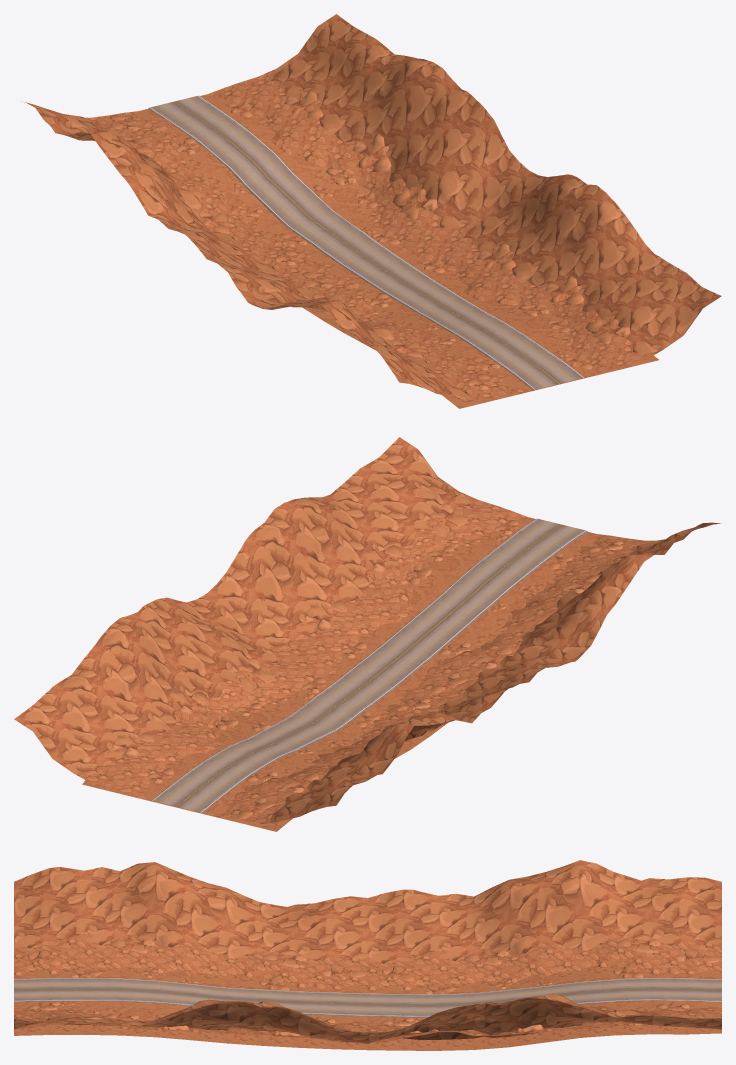
Rendered from Desert_StraightDouble.FBX.
3 views of the same model, one above another, from view 1: azimuth 30°, elevation 25°; view 2: azimuth 150°, elevation 25°; view 3: azimuth 270°, elevation 25° (orthographic). The views are drawn at different scales.
Parts seen in each view (by area): view 1: Desert_StraightDouble_R, Desert_StraightDouble_L, Desert_StraightDouble_Road; view 2: Desert_StraightDouble_R, Desert_StraightDouble_L, Desert_StraightDouble_Road; view 3: Desert_StraightDouble_L, Desert_StraightDouble_R, Desert_StraightDouble_Road.
Boxes of the visible parts, <box> form: Desert_StraightDouble_R: <box>200,14,721,384</box>; Desert_StraightDouble_L: <box>21,101,558,408</box>; Desert_StraightDouble_Road: <box>148,95,584,390</box>; Desert_StraightDouble_R: <box>14,437,535,807</box>; Desert_StraightDouble_L: <box>177,522,720,831</box>; Desert_StraightDouble_Road: <box>151,518,587,813</box>; Desert_StraightDouble_L: <box>14,860,721,994</box>; Desert_StraightDouble_R: <box>14,993,721,1050</box>; Desert_StraightDouble_Road: <box>14,978,721,1017</box>.
Bounding box in the file's own units: 49.07 × 12.77 × 100.
